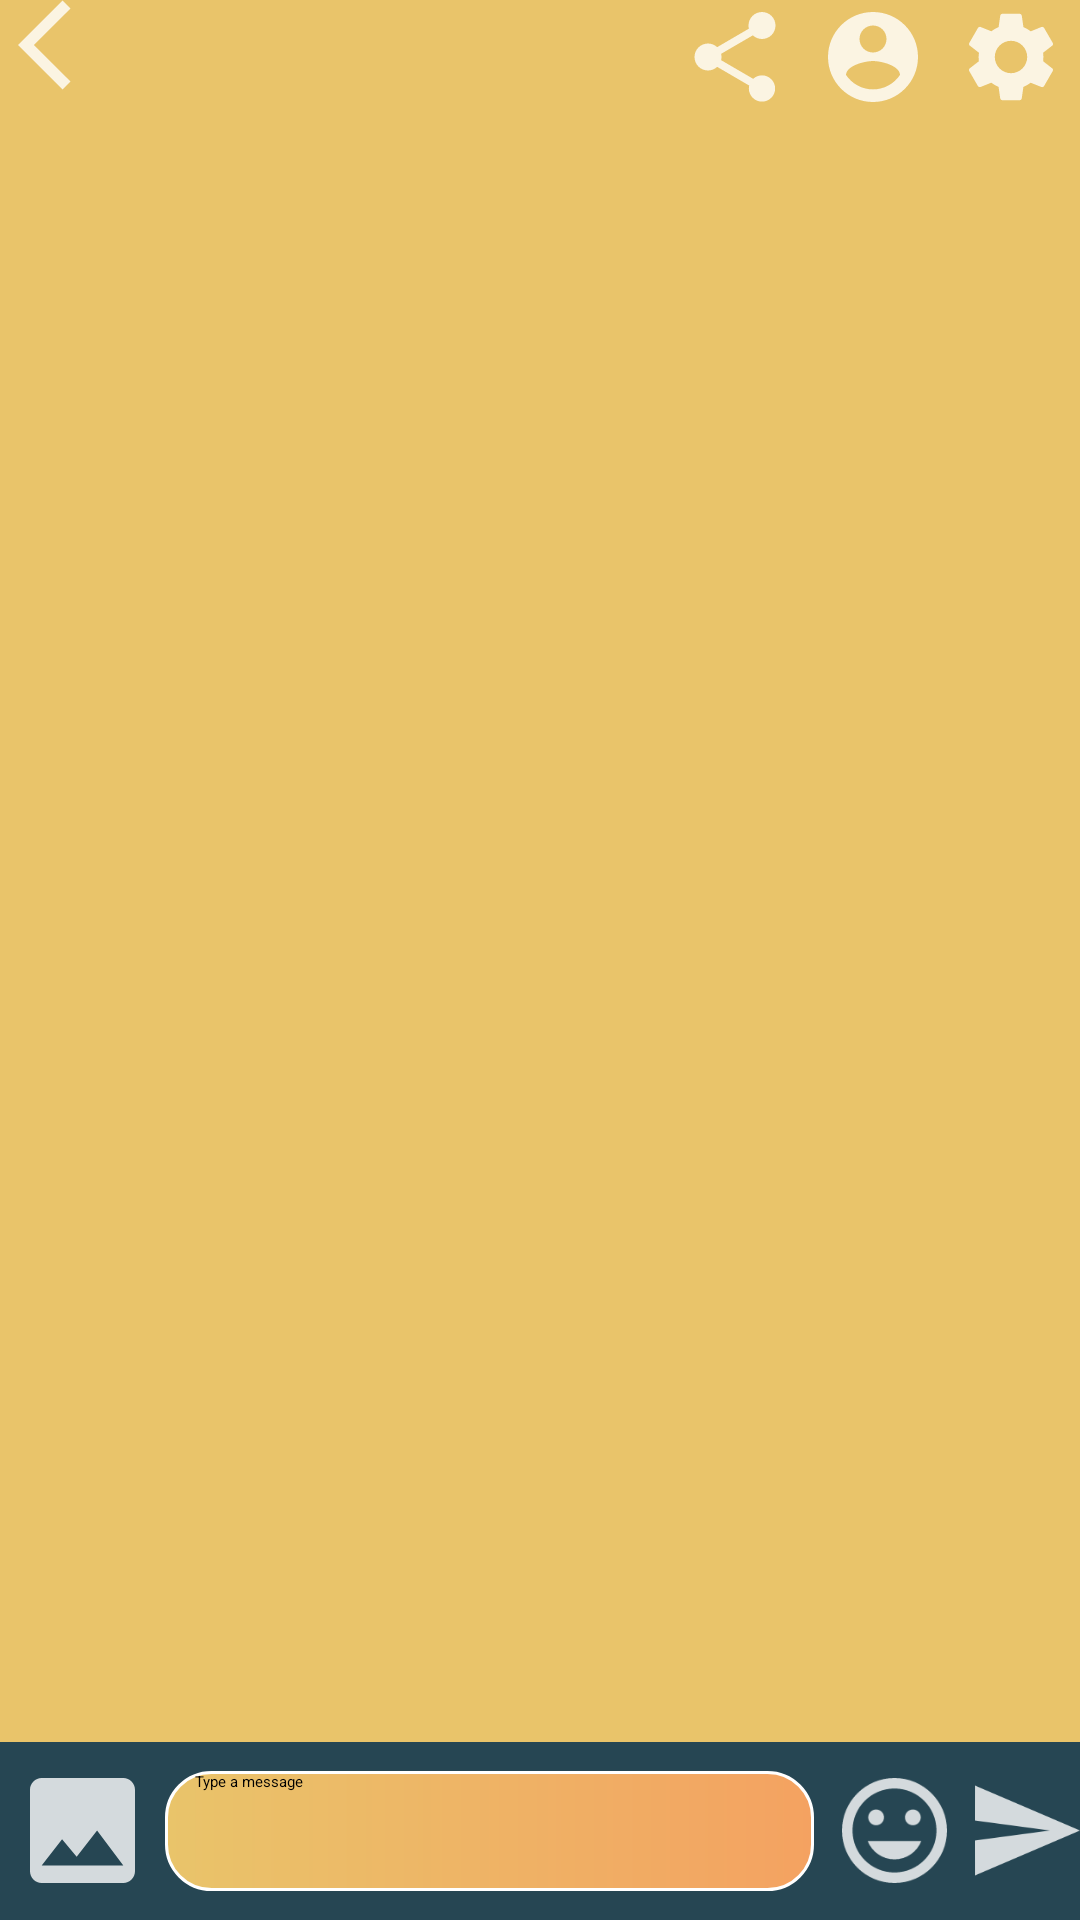

Screen size 1080w x 1920h. Icon name, then its center in pixels as [x,y]:
send: [1027,1830]
stickers: [894,1830]
